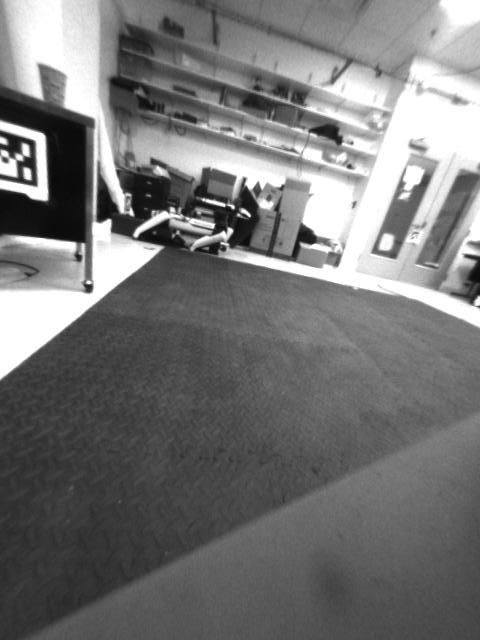coffee_cup: (36, 62, 69, 107)
